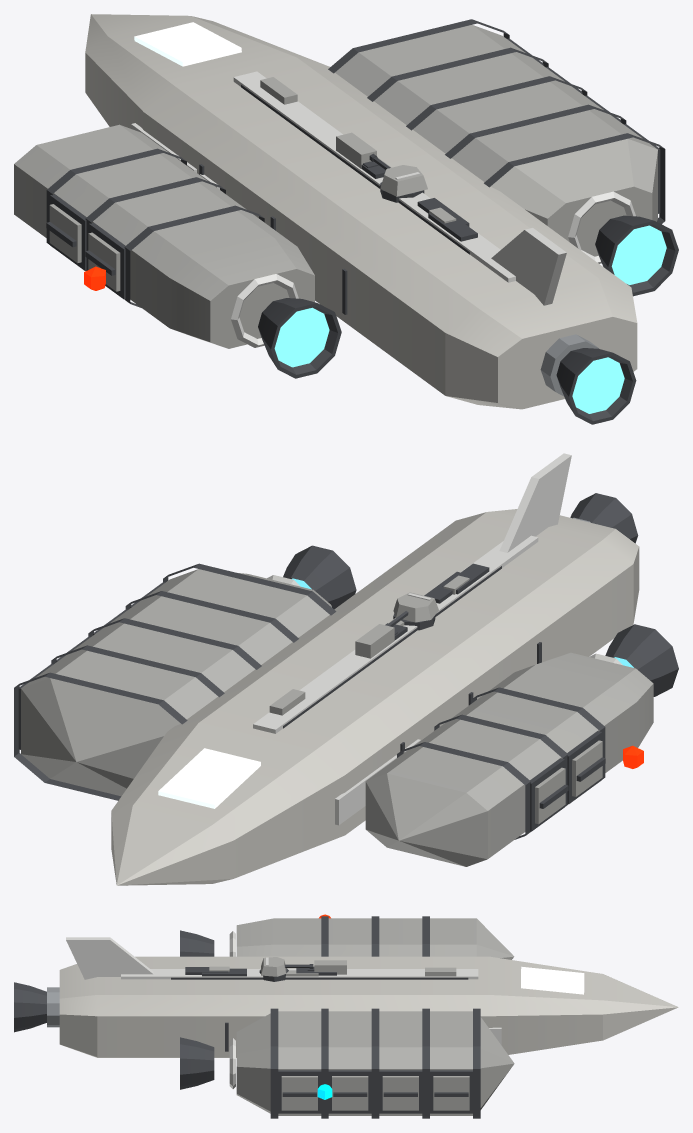
Rendered from nomad.glb.
The picture shows the model from 3 angles, top to bottom: view 1: azimuth 30°, elevation 25°; view 2: azimuth 150°, elevation 25°; view 3: azimuth 270°, elevation 25°; orthographic projection. The views are drawn at different scales.
Visible parts, largest first — view 1: Hull, Turret_6; view 2: Hull, Turret_6; view 3: Hull, Turret_6.
Boxes of the visible parts, box(x1,y1,x2,y2) form: Hull: box(14, 14, 678, 424); Turret_6: box(369, 153, 427, 202); Hull: box(14, 453, 678, 885); Turret_6: box(385, 592, 438, 630); Hull: box(14, 914, 678, 1118); Turret_6: box(259, 957, 313, 981).
Bounding box in the file's own units: 1.25 × 0.372 × 2.
